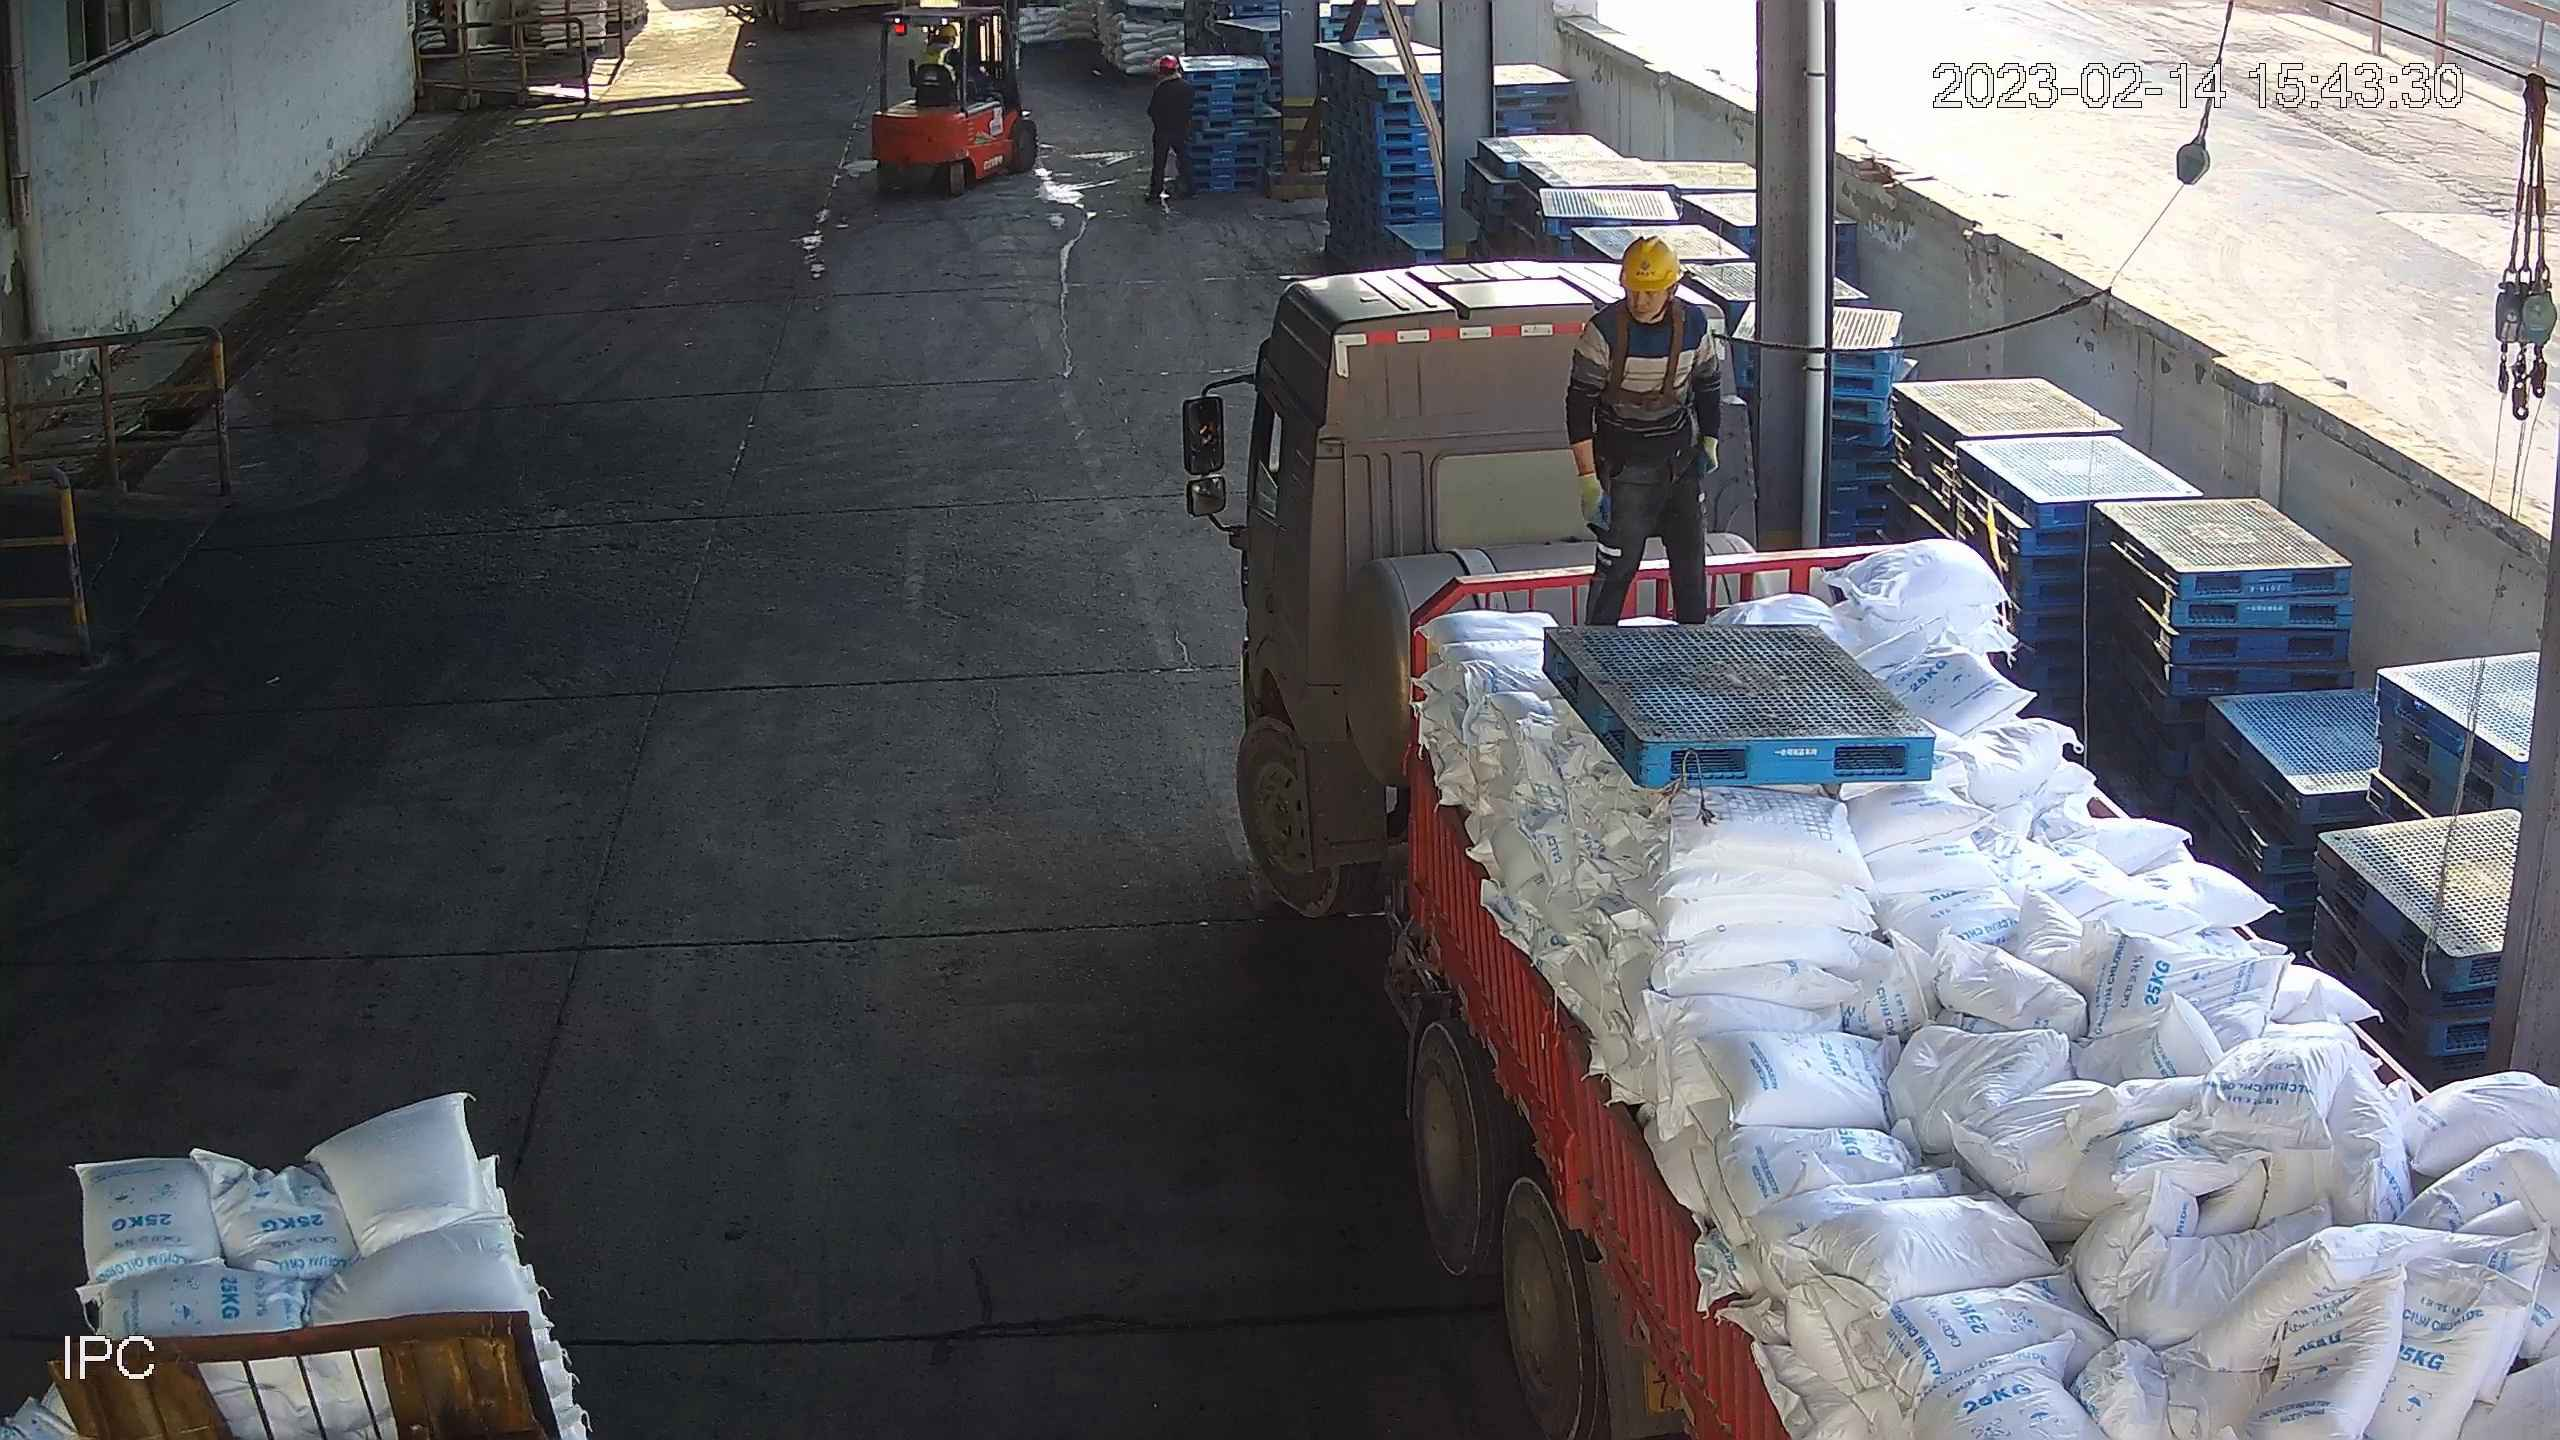belt: (1604, 316, 1699, 409)
head: (1597, 241, 1702, 351), (1154, 57, 1193, 98), (923, 23, 960, 65)
helmet: (1621, 237, 1684, 288), (1157, 54, 1181, 70), (939, 23, 959, 35)
people: (1560, 237, 1734, 634), (1142, 56, 1198, 203)
truck: (1190, 244, 2560, 1440)
